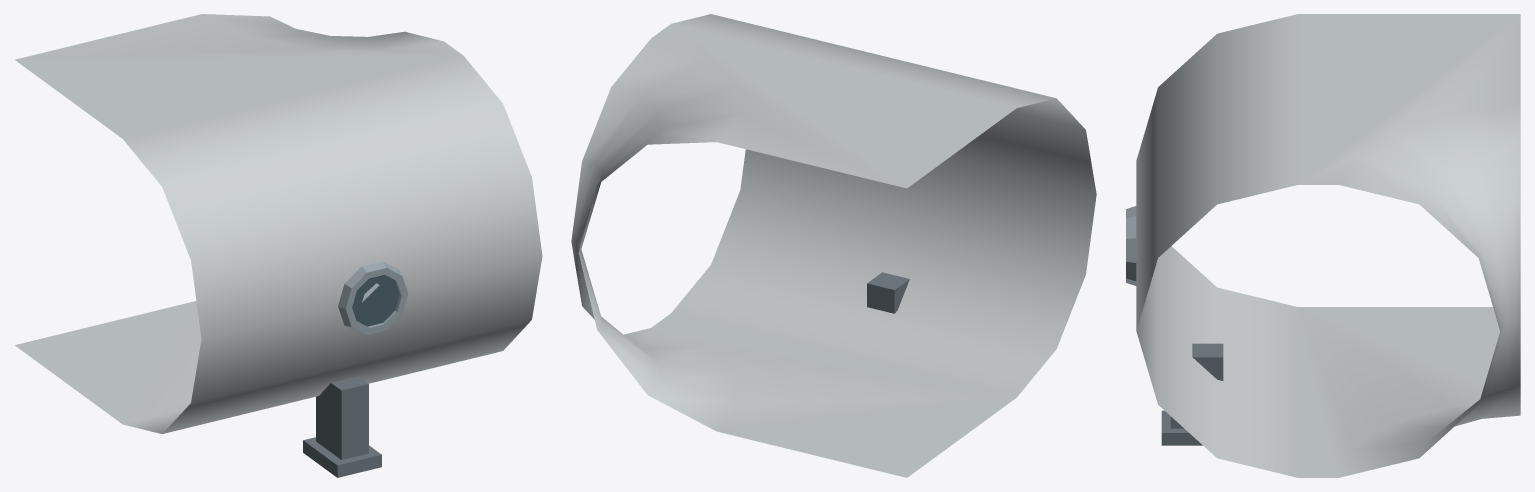
Rendered from pressure_141.glb.
3 renders of one model, left to right at view 1: azimuth 30°, elevation 25°; view 2: azimuth 150°, elevation 25°; view 3: azimuth 270°, elevation 25°, orthographic. The views are drawn at different scales.
Visible parts, largest first — view 1: Pressure_Shell.060, Support.141, Porthole_Rim.078, Gas_Window.078, Window_Glass.078, Footplate.141; view 2: Pressure_Shell.060, Support.141; view 3: Pressure_Shell.060, Support.141, Porthole_Rim.078, Footplate.141.
Part boxes in pixels (left/top/right/bottom): Pressure_Shell.060: left=15, top=14, right=542, bottom=433; Support.141: left=316, top=376, right=368, bottom=459; Porthole_Rim.078: left=338, top=261, right=408, bottom=334; Gas_Window.078: left=352, top=275, right=399, bottom=326; Window_Glass.078: left=353, top=276, right=400, bottom=327; Footplate.141: left=303, top=437, right=381, bottom=477; Pressure_Shell.060: left=571, top=14, right=1096, bottom=477; Support.141: left=867, top=272, right=909, bottom=313; Pressure_Shell.060: left=1136, top=14, right=1520, bottom=477; Support.141: left=1170, top=343, right=1223, bottom=428; Porthole_Rim.078: left=1126, top=206, right=1136, bottom=285; Footplate.141: left=1161, top=410, right=1202, bottom=445.
Bounding box in the file's own units: 2 × 1.83 × 1.95.
